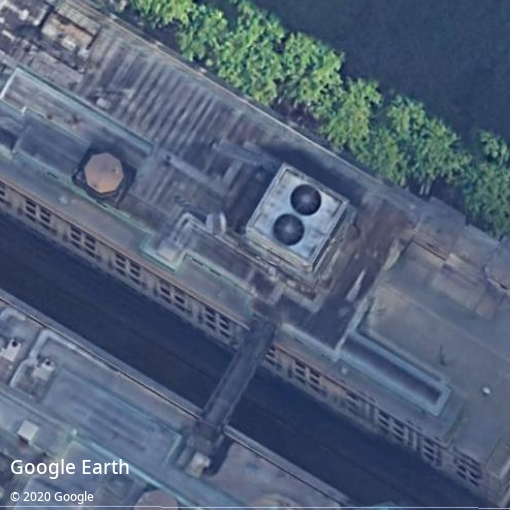Vent: (290, 184, 322, 216), (274, 214, 305, 246)
